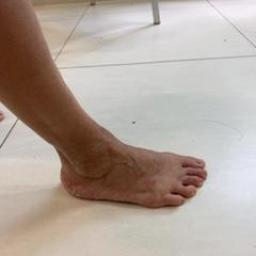Lateral View -Right Foot-: (38, 109, 228, 226)
